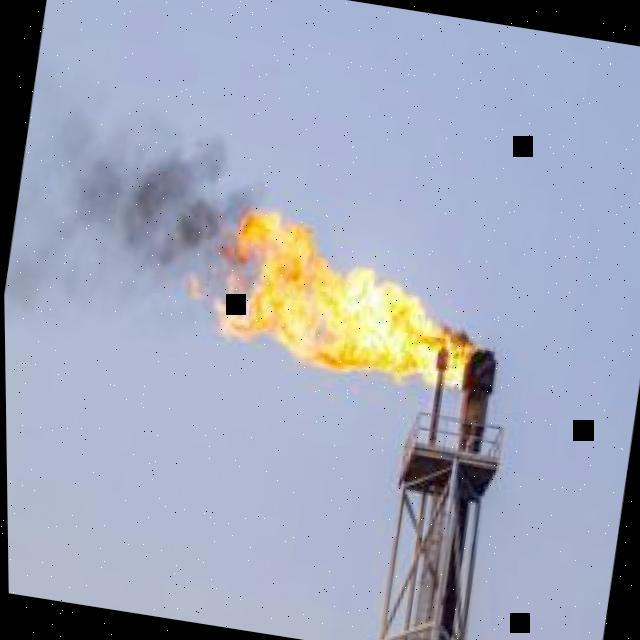fire: (218, 208, 490, 392)
smoke: (3, 57, 270, 333)
